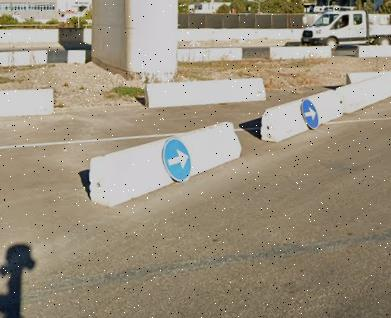turnright: (153, 132, 197, 187), (296, 97, 323, 130)
